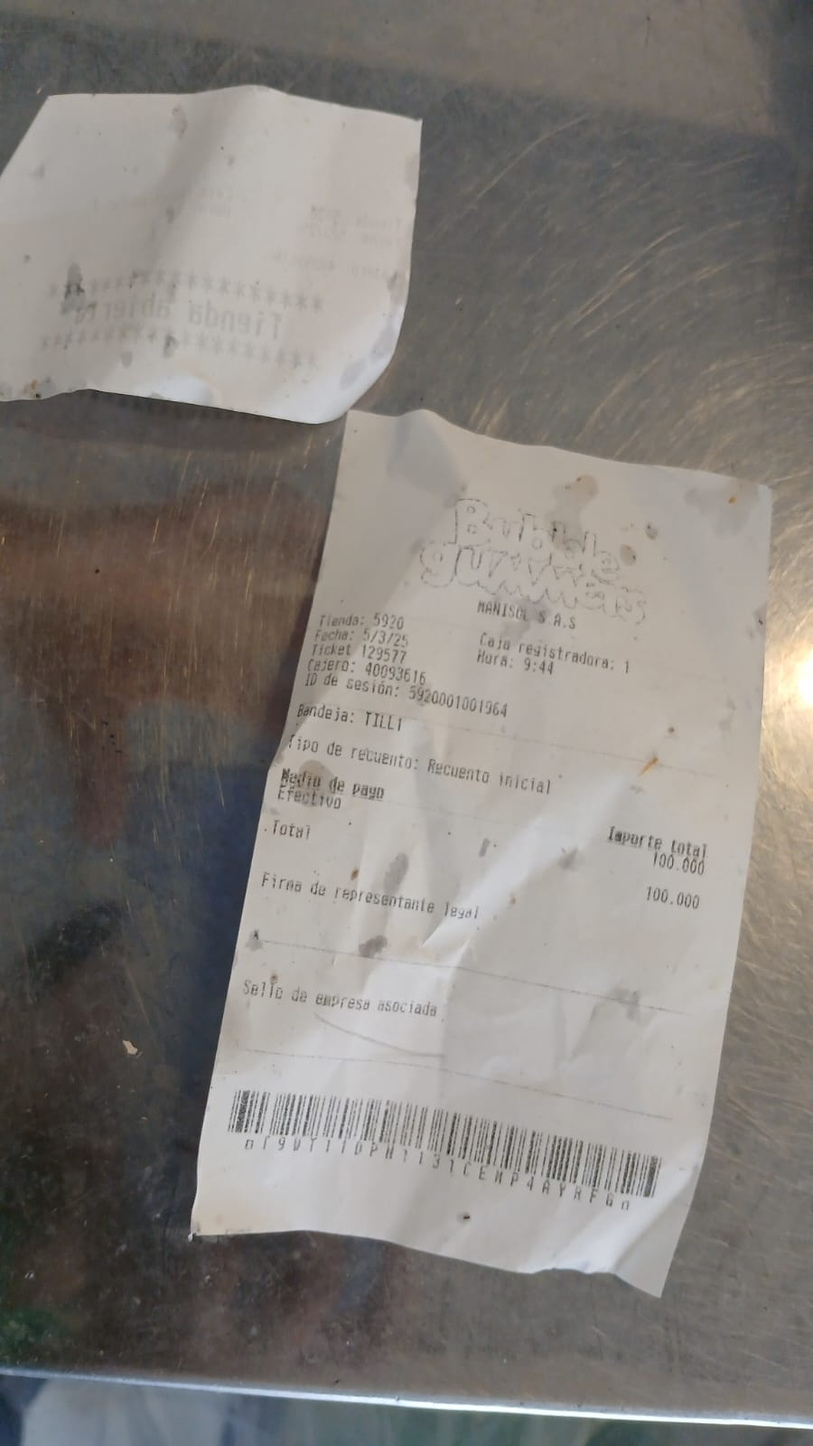Papel: (187, 411, 776, 1299), (0, 83, 425, 424)
